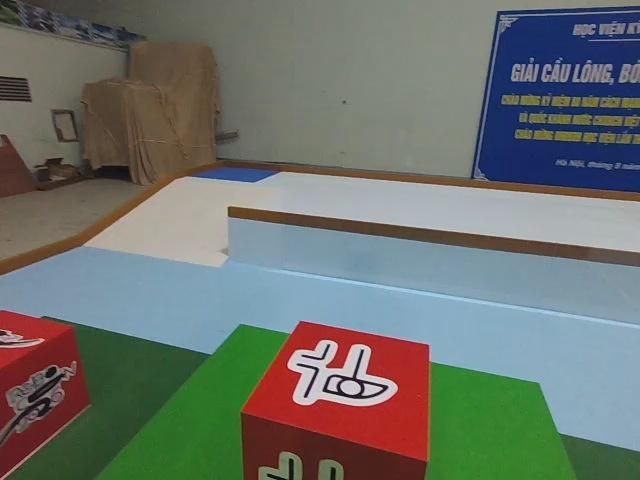R1: (0, 306, 90, 479)
R2 Real: (245, 315, 431, 480)
